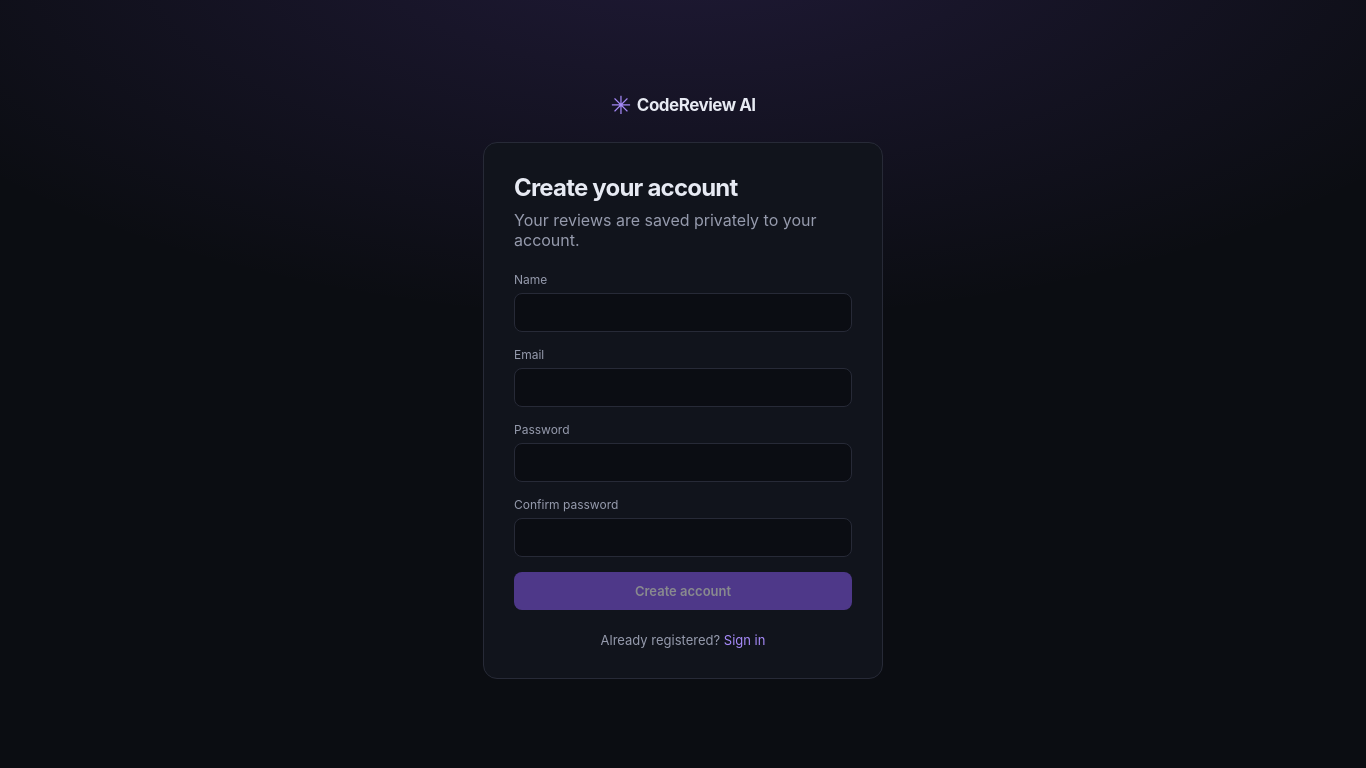
it: login › register blocks weak/mismatched passwords before calling the API
Type "Ada" into the field labelled "Name" at (683, 312), box top-left (514, 292), bottom-right (852, 332)
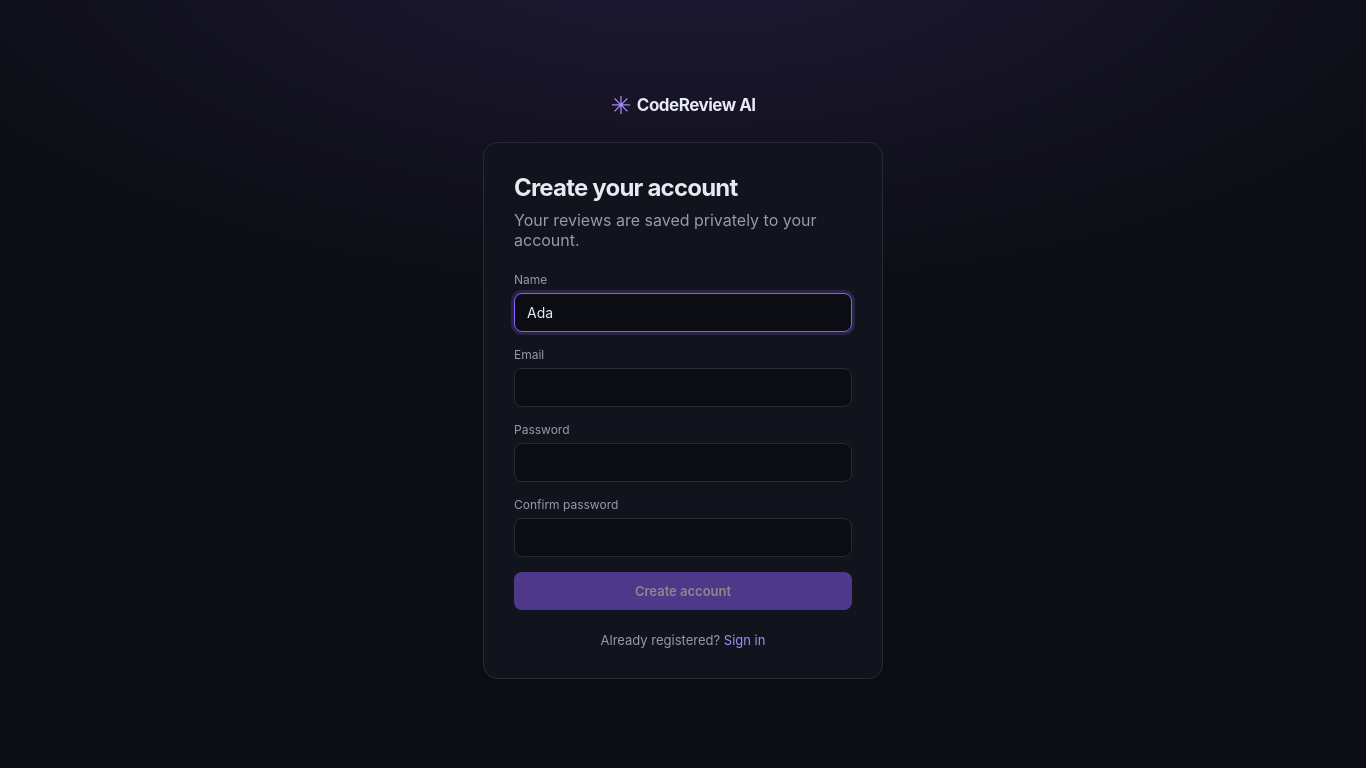
Type "ada@example.com" into the field labelled "Email" at (683, 387), box top-left (514, 368), bottom-right (852, 406)
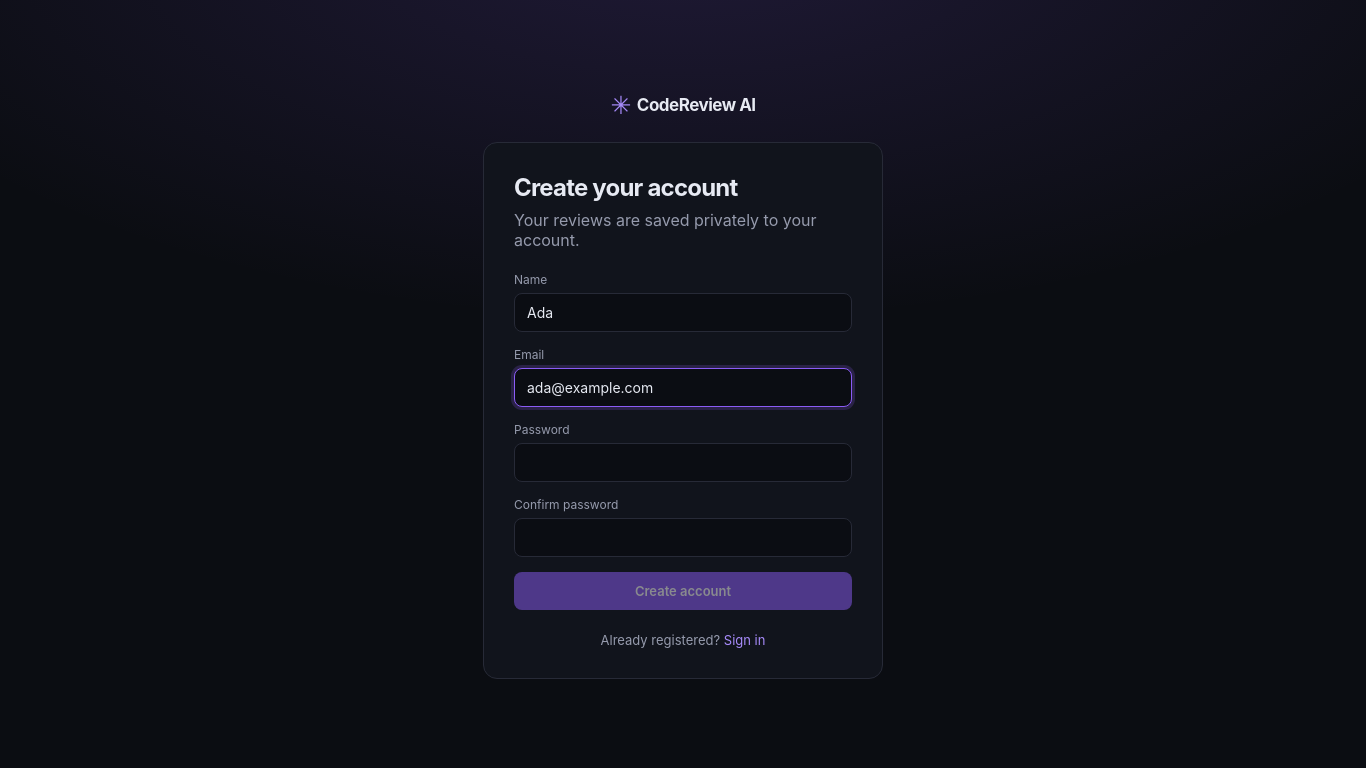
Type "short" into the password field labelled "Password" at (683, 462), box top-left (514, 442), bottom-right (852, 482)
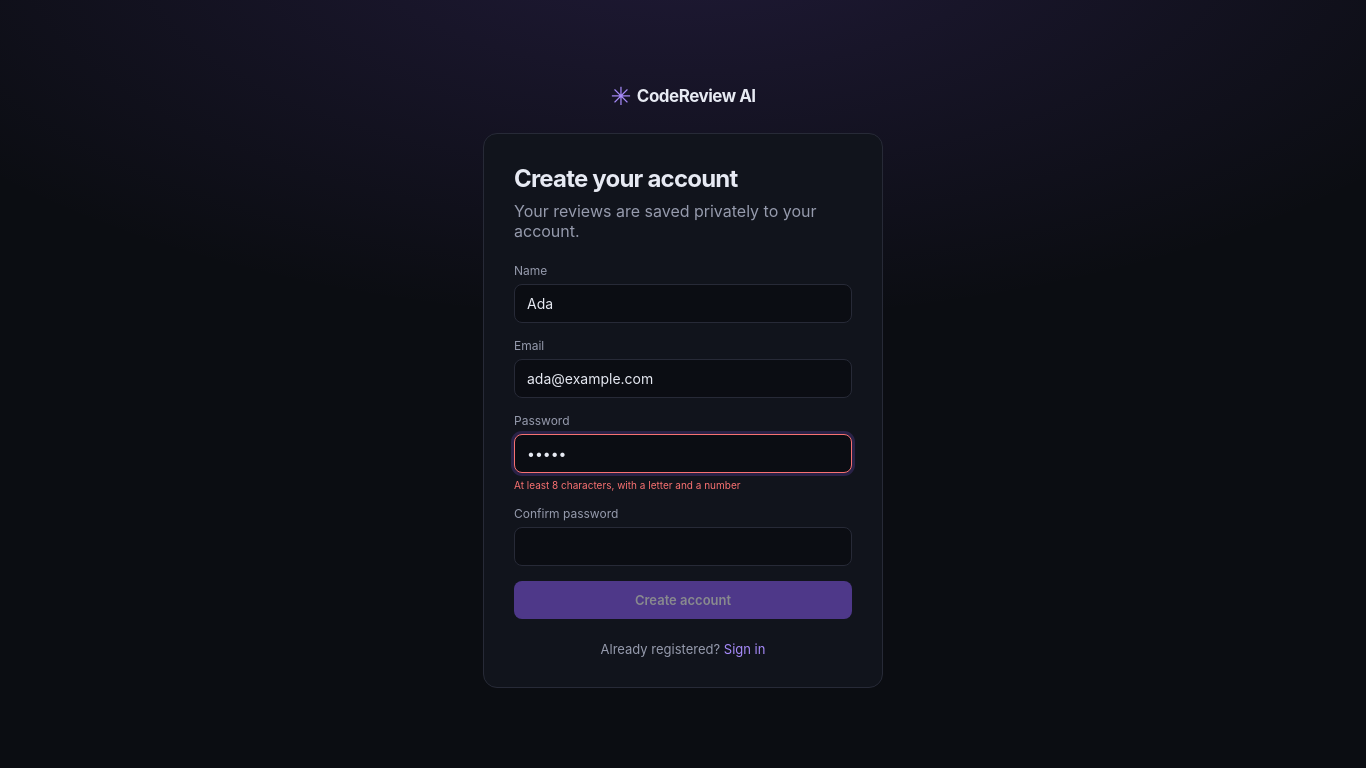
Type "different" into the password field labelled "Confirm password" at (683, 546), box top-left (514, 526), bottom-right (852, 566)
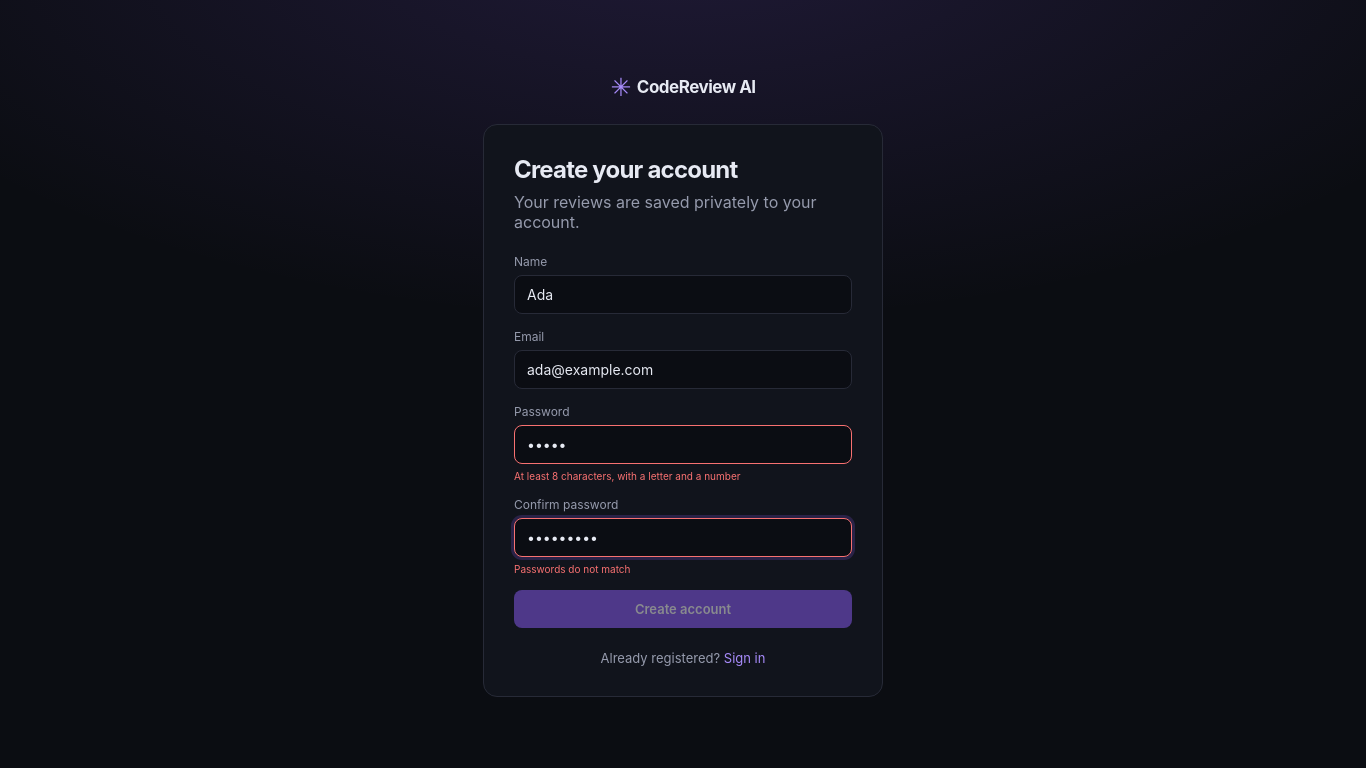
Check: the button "Create account" is disabled, box top-left (514, 590), bottom-right (852, 628)
Check: the text "Passwords do not match" is shown, box top-left (514, 562), bottom-right (630, 574)
